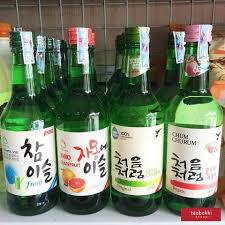soju: (1, 22, 222, 218)
